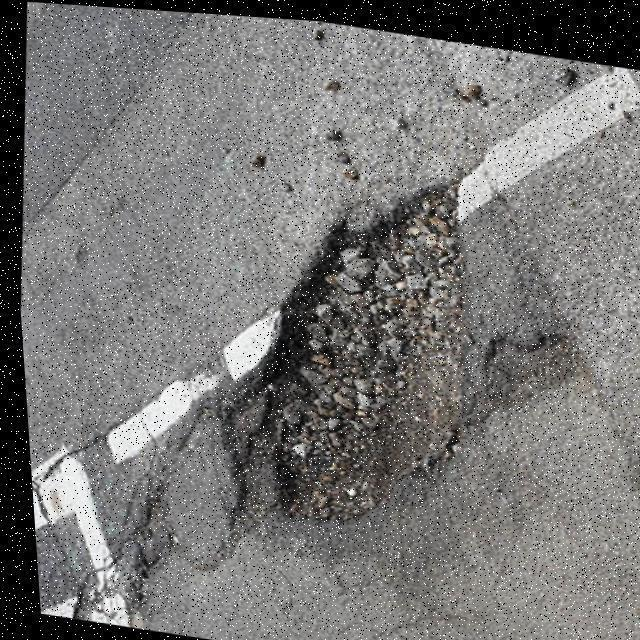Pothole: (207, 178, 589, 537)
